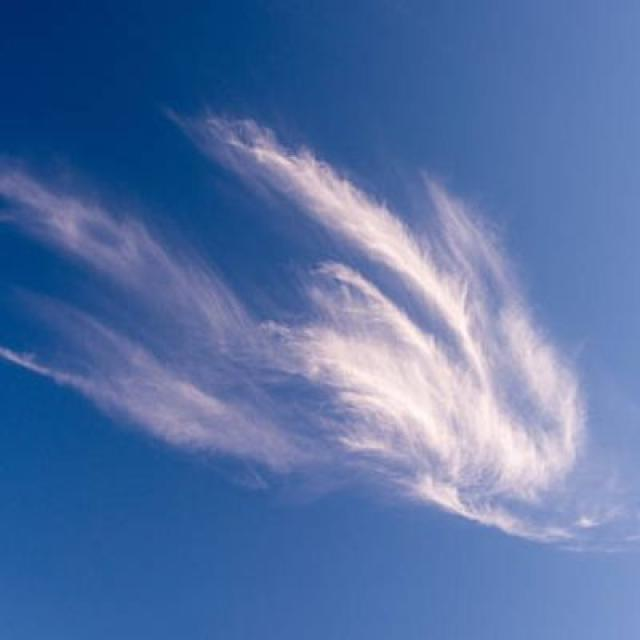Cs: (2, 107, 609, 551)
